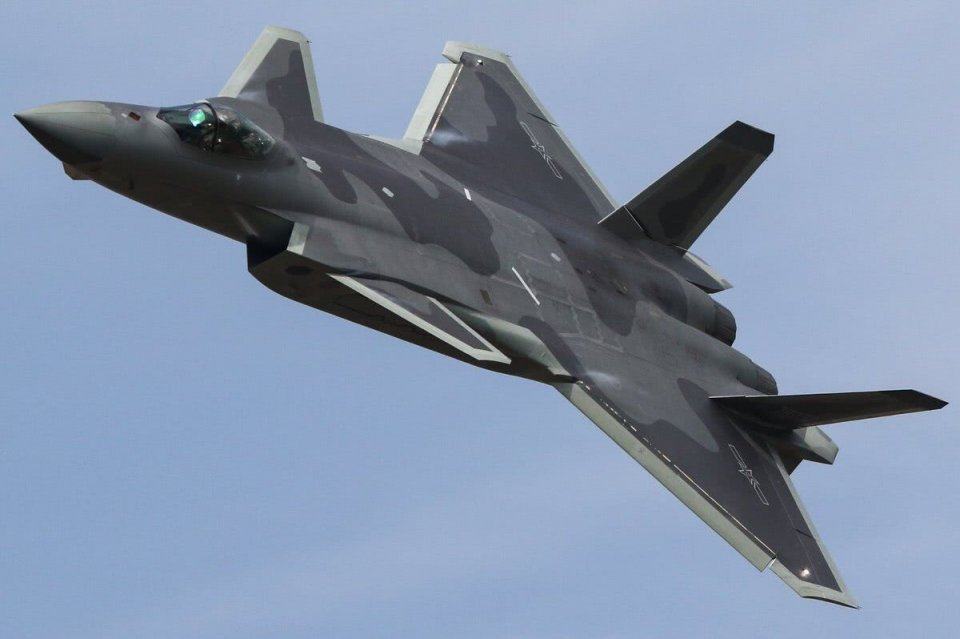airplane: (6, 20, 953, 609)
